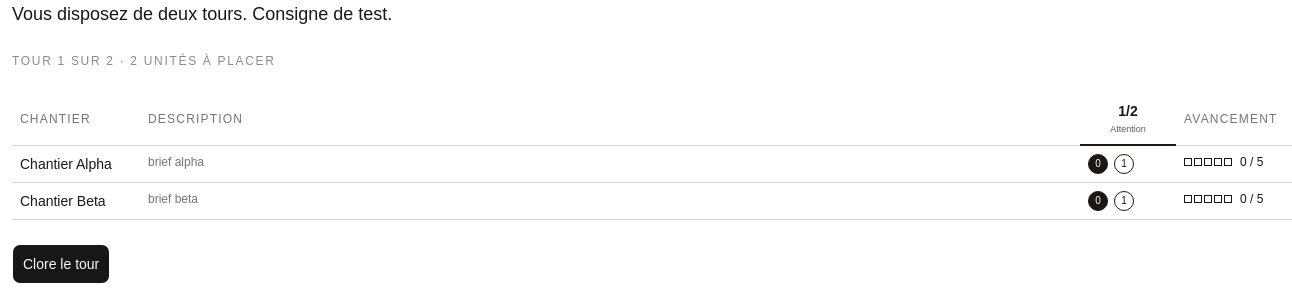
Test: three tracks game, rendered › updates the remaining attention when a pastille is selected
The width and height of the screenshot is (1292, 300).
Click the radio button named "une unité sur Chantier Alpha, tour 1" at (1124, 164), box 1114,154 -> 1134,174
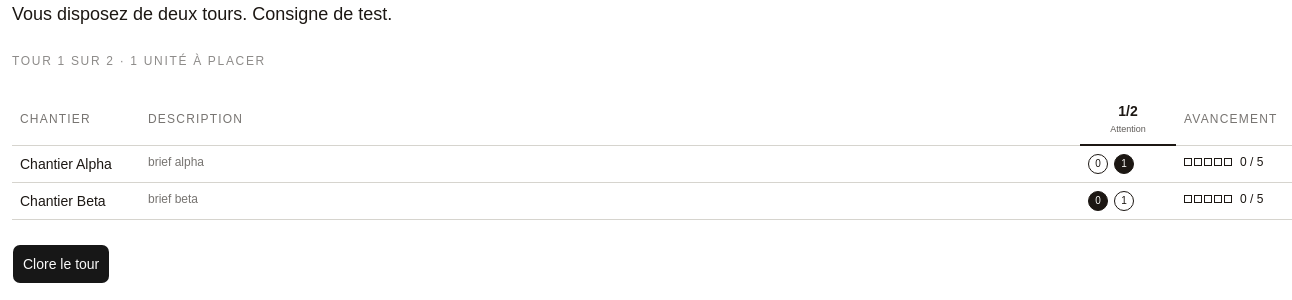
Check: the text "Tour 1 sur 2 · 1 unité à placer" is shown, box 12,54 -> 266,68
